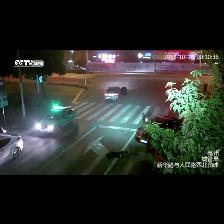person: (106, 152, 134, 159)
